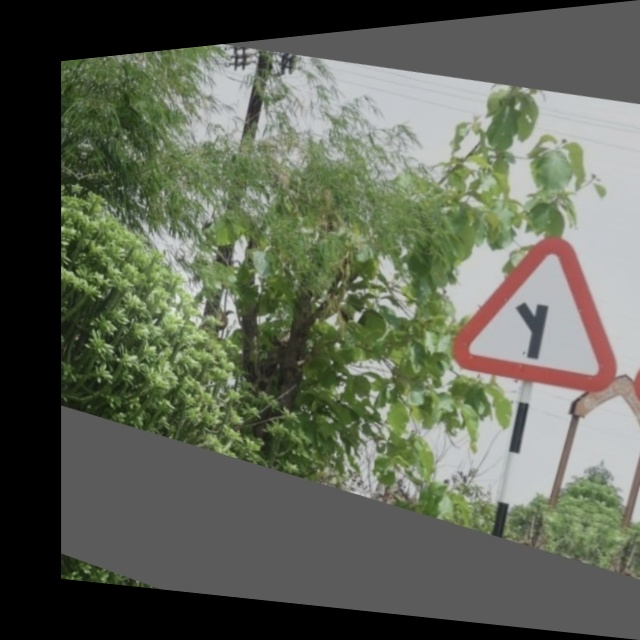Y_Intersection: (449, 220, 639, 401)
